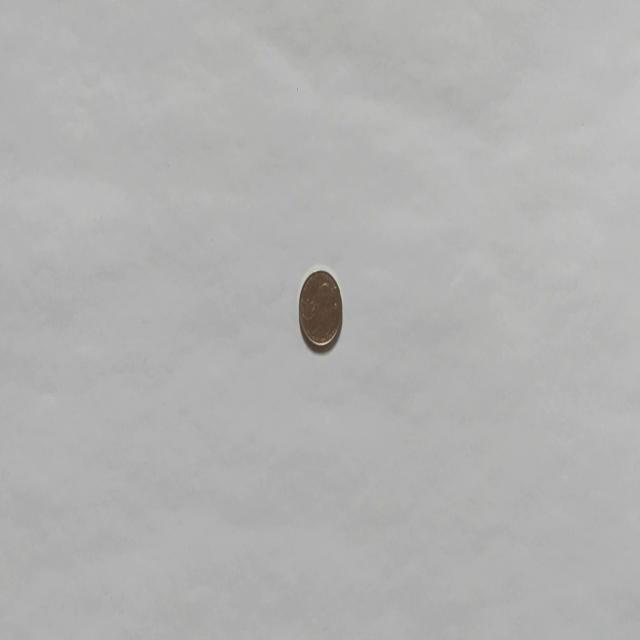seribu rupiah koin: (297, 266, 343, 352)
